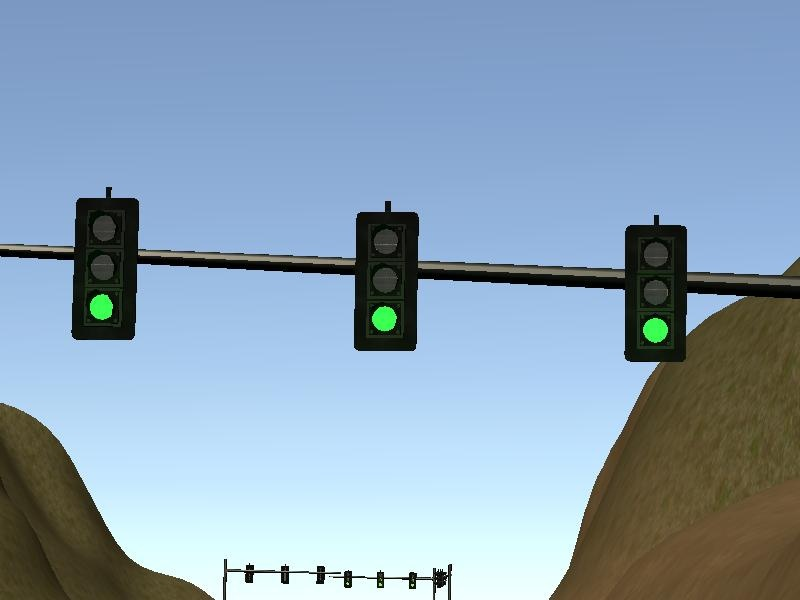GREEN: (71, 199, 138, 341), (353, 210, 418, 351), (623, 223, 686, 363)
